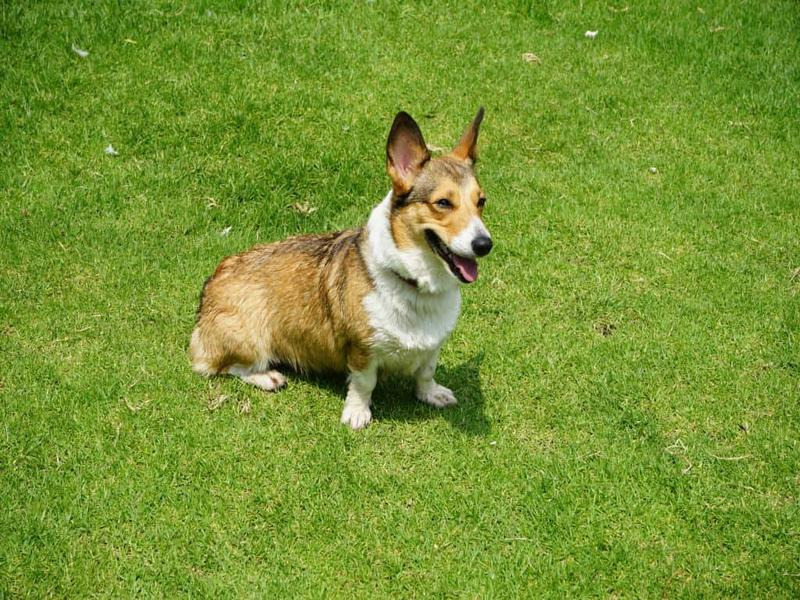corgi: (385, 106, 494, 286)
